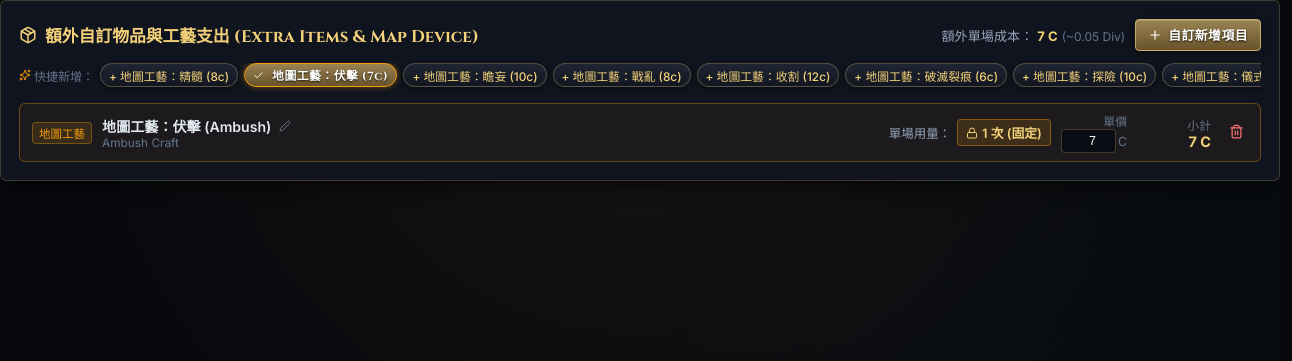
it: AtlasExtraItemsConfig Component (Issue #12) › shows replacement warning and locks count in custom form when craft is selected
This screenshot has width=1292, height=361.
Open custom form
Step 1. Click the button "自訂新增項目" → (1198, 35), box [1135, 19, 1261, 51]
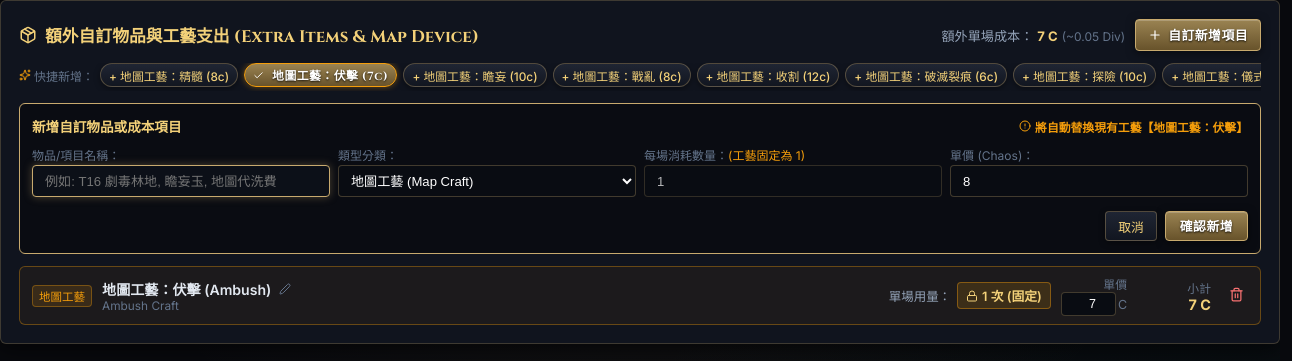
Expected: the text "將自動替換現有工藝【地圖工藝：伏擊】" is shown, [1019, 118, 1248, 134]
Expected: the text "(工藝固定為 1)" is shown, [728, 148, 805, 163]
